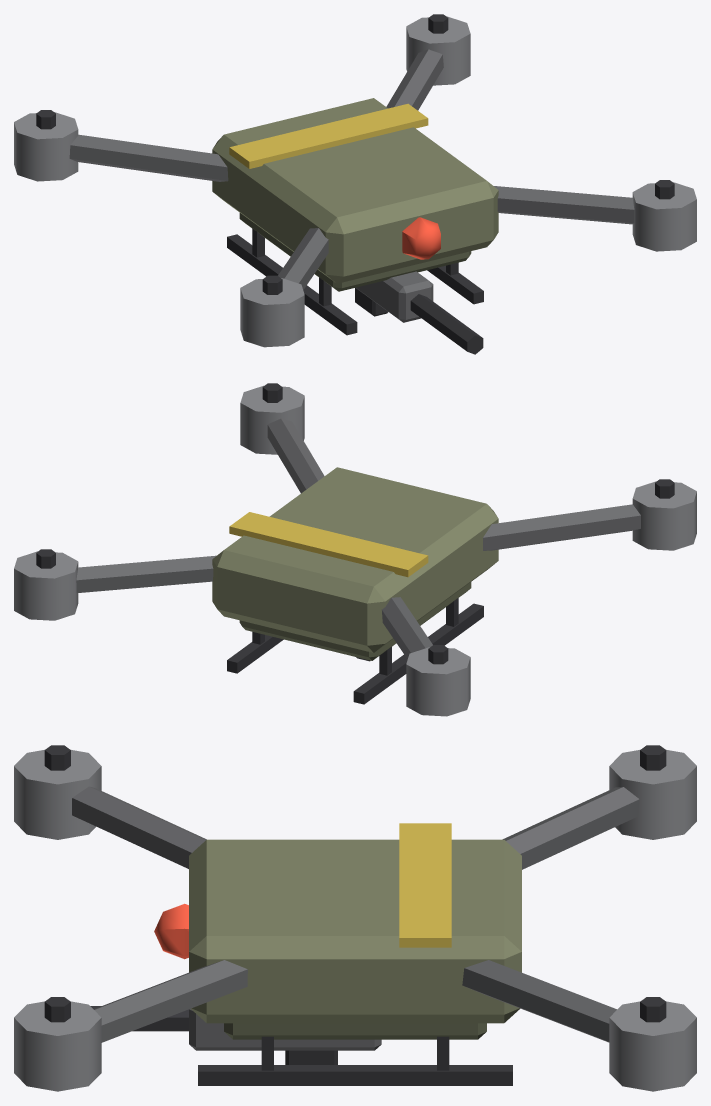
Rendered from drone.glb.
The picture shows the model from 3 angles, top to bottom: view 1: azimuth 30°, elevation 25°; view 2: azimuth 150°, elevation 25°; view 3: azimuth 270°, elevation 25°; orthographic projection. The views are drawn at different scales.
Visible parts, largest first — view 1: drone; view 2: drone; view 3: drone.
Boxes of the visible parts, <box> form: drone: <box>14,14,696,354</box>; drone: <box>14,383,696,716</box>; drone: <box>14,745,696,1091</box>.
Size of the model in its own units: 0.78 by 0.245 by 0.78.
